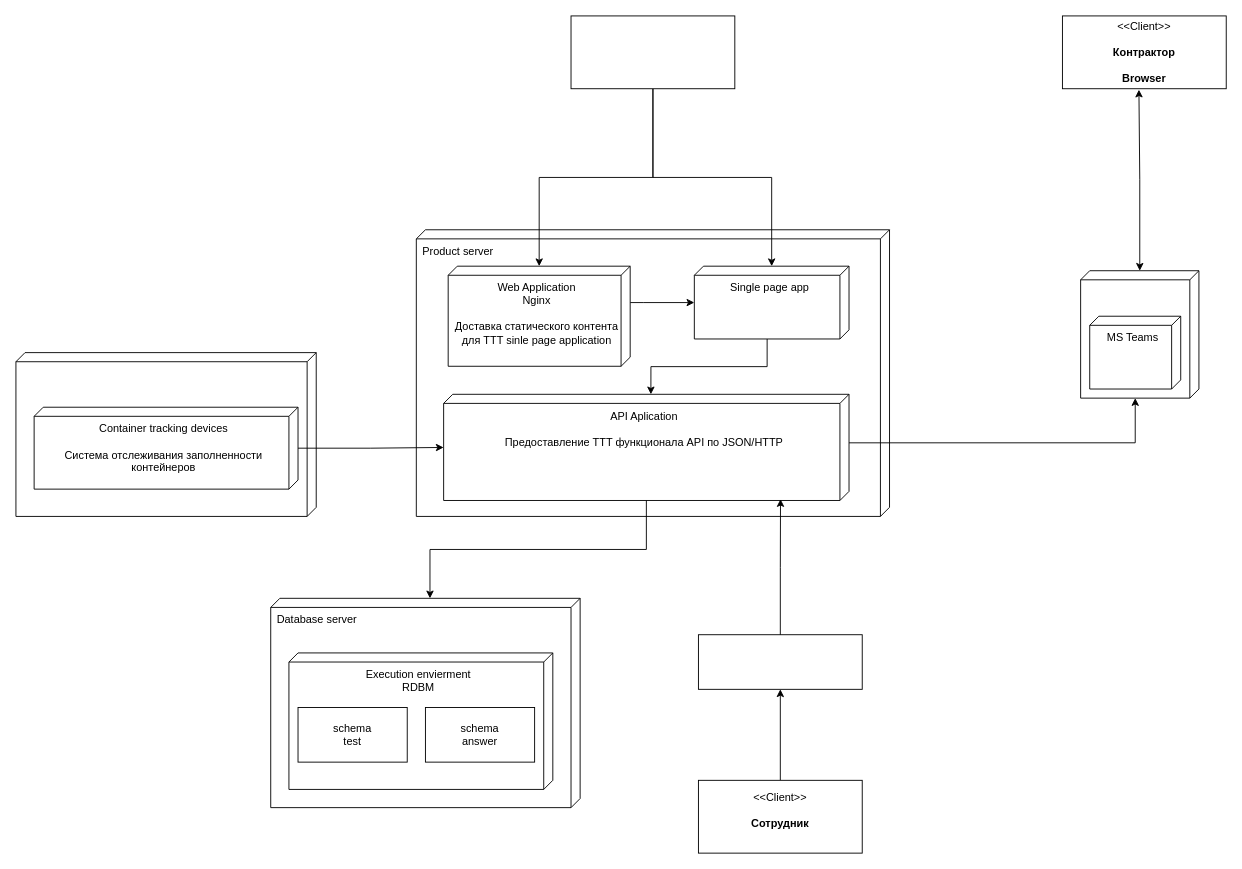
This 1242x869 diagram has some shape labels left out. The shapes that lost their labels are listed below. From the top down, each one's centre as x and y in pixels, then its label:
[652,52]: <<Client>> HR Browser
[1139,334]: External notification system
[165,434]: Prodaction server
[780,661]: <<Internal notification system>> MS Teams
